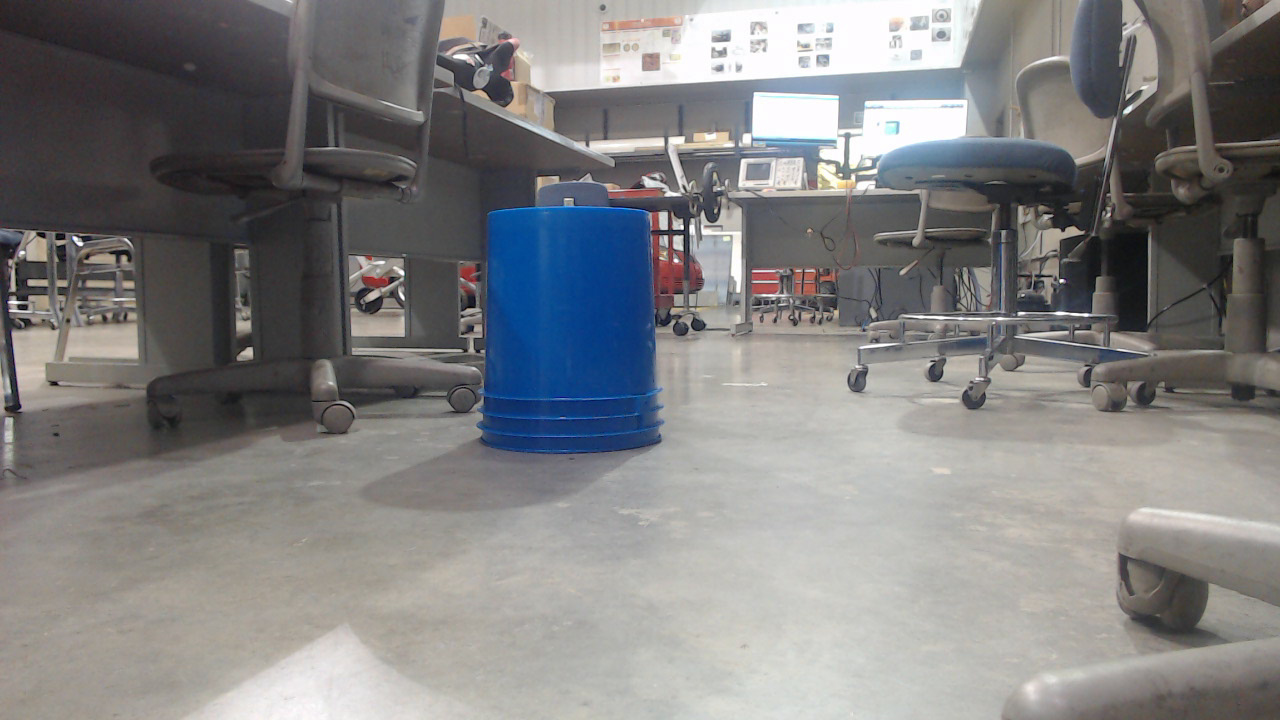blue_bucket: (478, 207, 672, 463)
